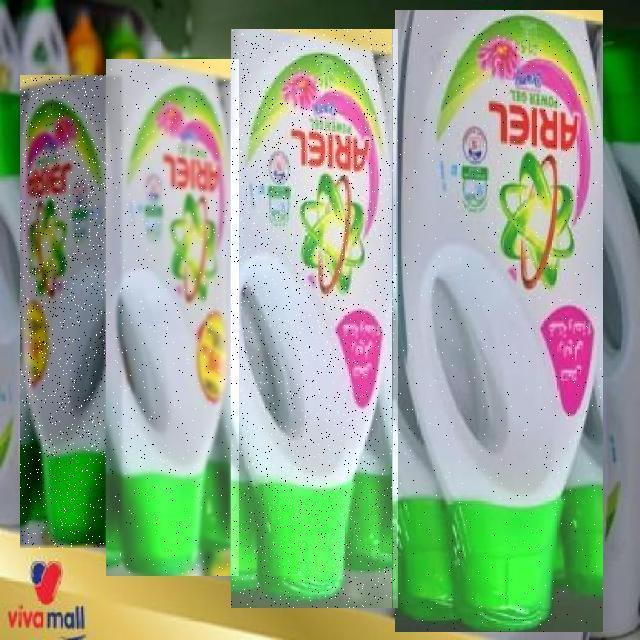Detergent: (395, 10, 603, 632), (232, 29, 398, 608), (107, 59, 243, 576), (21, 76, 123, 550)
